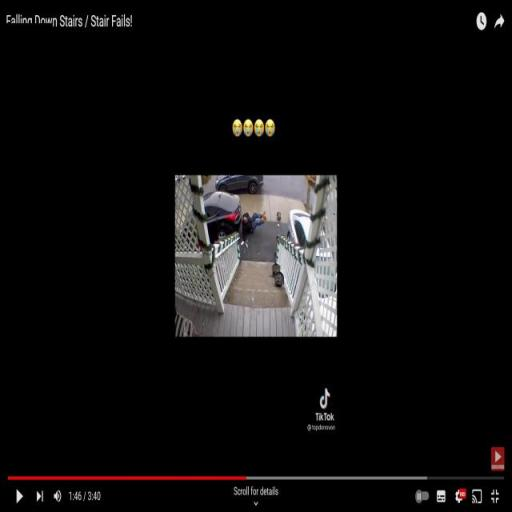Fall: (241, 210, 268, 245)
